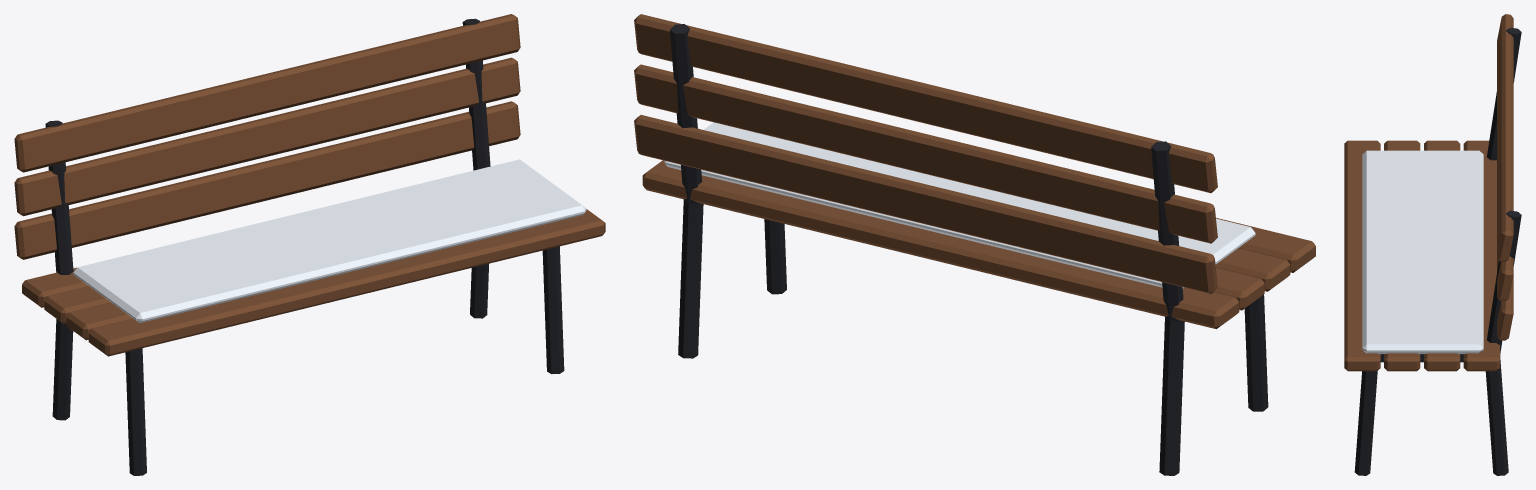
The model's file is bench.glb.
3 views of the same model, side by side, from view 1: azimuth 30°, elevation 25°; view 2: azimuth 150°, elevation 25°; view 3: azimuth 270°, elevation 25° (orthographic). The views are drawn at different scales.
Parts seen in each view (by area): view 1: bench; view 2: bench; view 3: bench.
Part boxes in pixels (x1,y1,x2,y2): bench: (14,14,605,475); bench: (634,14,1315,475); bench: (1344,14,1521,475).
Bounding box in the file's own units: 6 × 3.32 × 2.05.
1 material, 1 textured.
